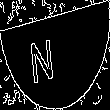N_N: (41, 26, 69, 84)
